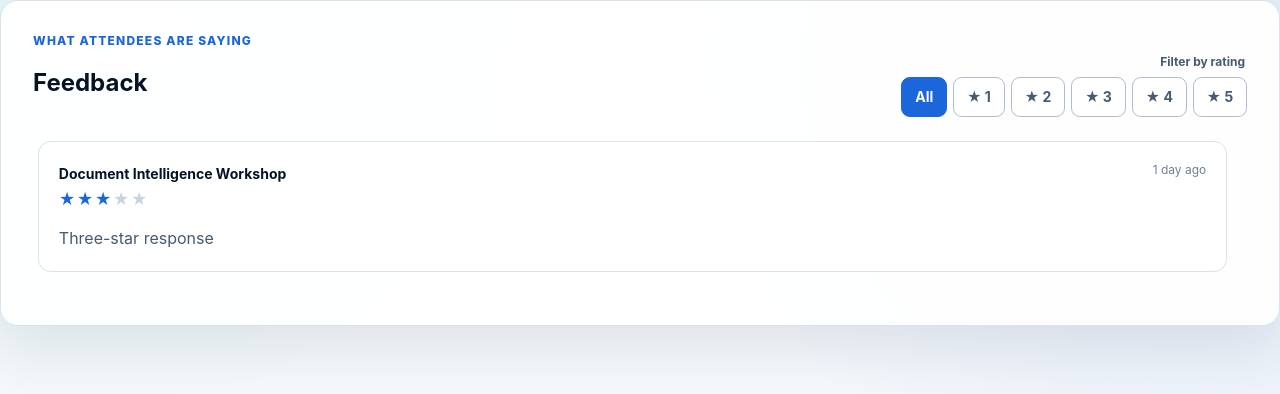
FeedbackStream › keeps rating filters isolated and clears a filtered empty state
The width and height of the screenshot is (1280, 394).
Expected: the text "Three-star response" is shown, [59,228,214,248]
Click the button named "5 stars": (1220,97) [1193,77,1247,117]
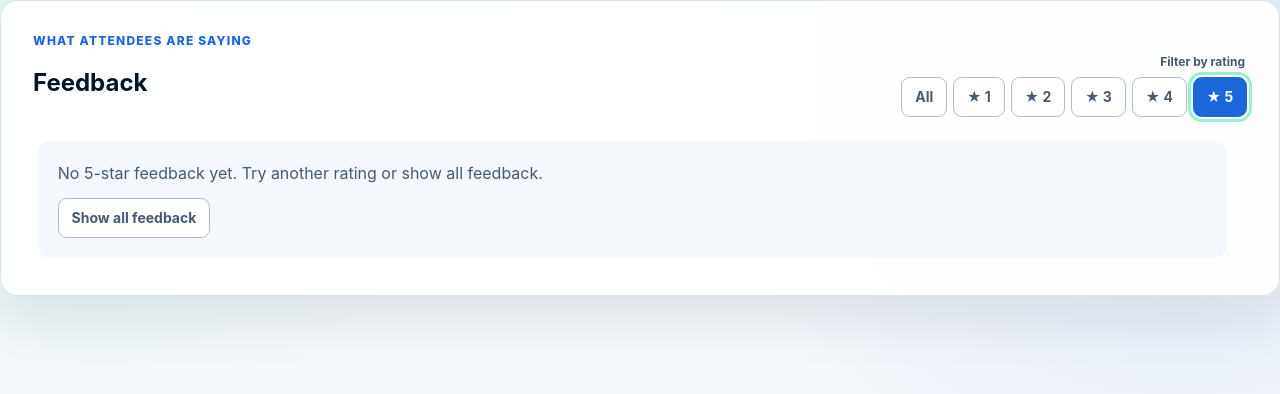
Expected: the text "No 5-star feedback yet. Try another rating or show all feedback." is shown, [58,163,543,183]
Expected: the text "Three-star response" is gone
Click the button "Show all feedback": (134,218) [58,198,210,238]
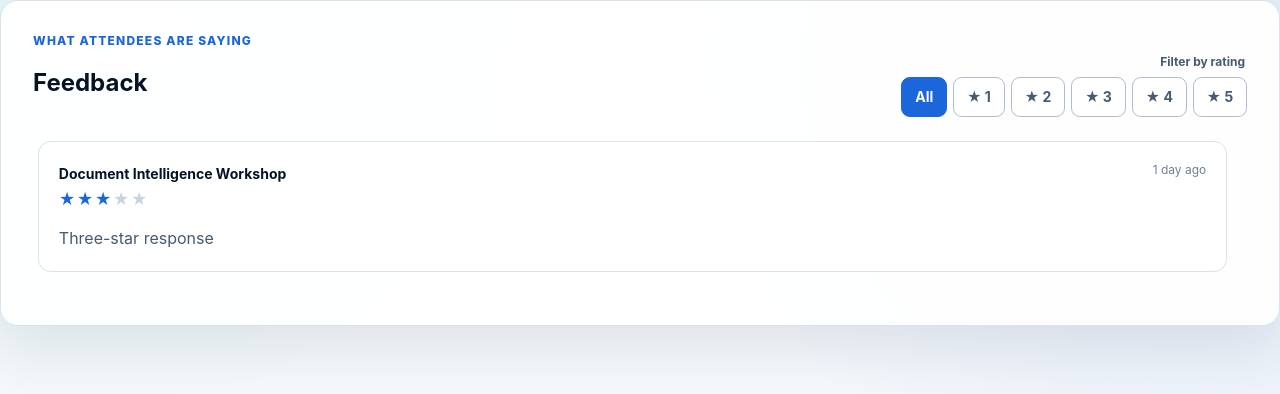
Expected: the text "Three-star response" is shown, [59,228,214,248]
